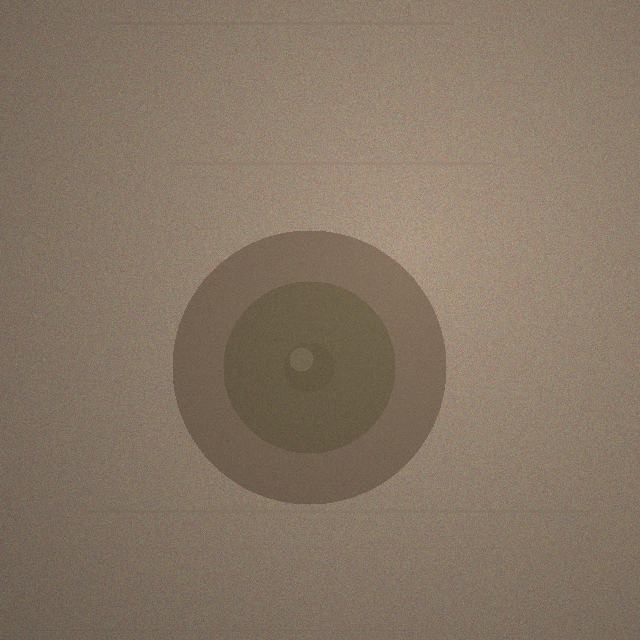good: (172, 230, 446, 504)
